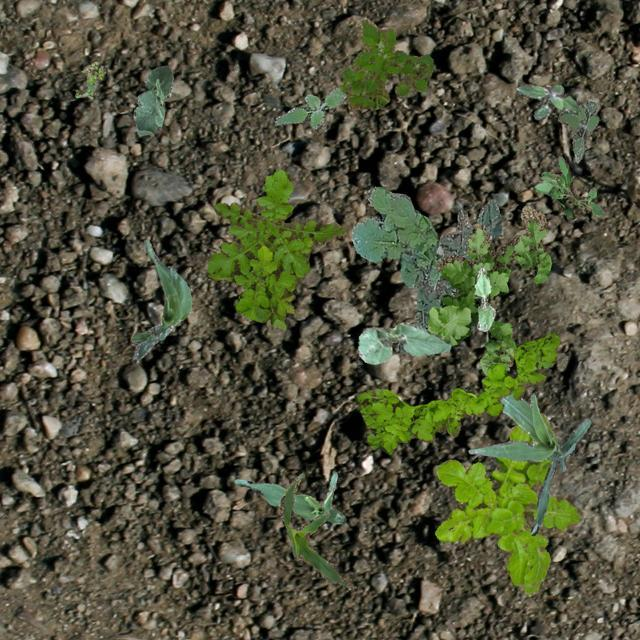crop: (468, 392, 590, 534), (278, 472, 356, 588), (130, 240, 190, 362), (233, 471, 344, 524), (358, 320, 450, 362), (132, 64, 172, 134), (474, 266, 494, 331)
weed: (434, 412, 582, 594), (353, 332, 560, 454), (205, 168, 344, 328), (426, 204, 550, 374), (396, 198, 502, 350), (351, 185, 442, 288), (338, 17, 432, 108), (534, 156, 604, 218), (274, 86, 346, 128), (558, 98, 598, 162), (516, 82, 578, 119), (74, 61, 105, 98)
